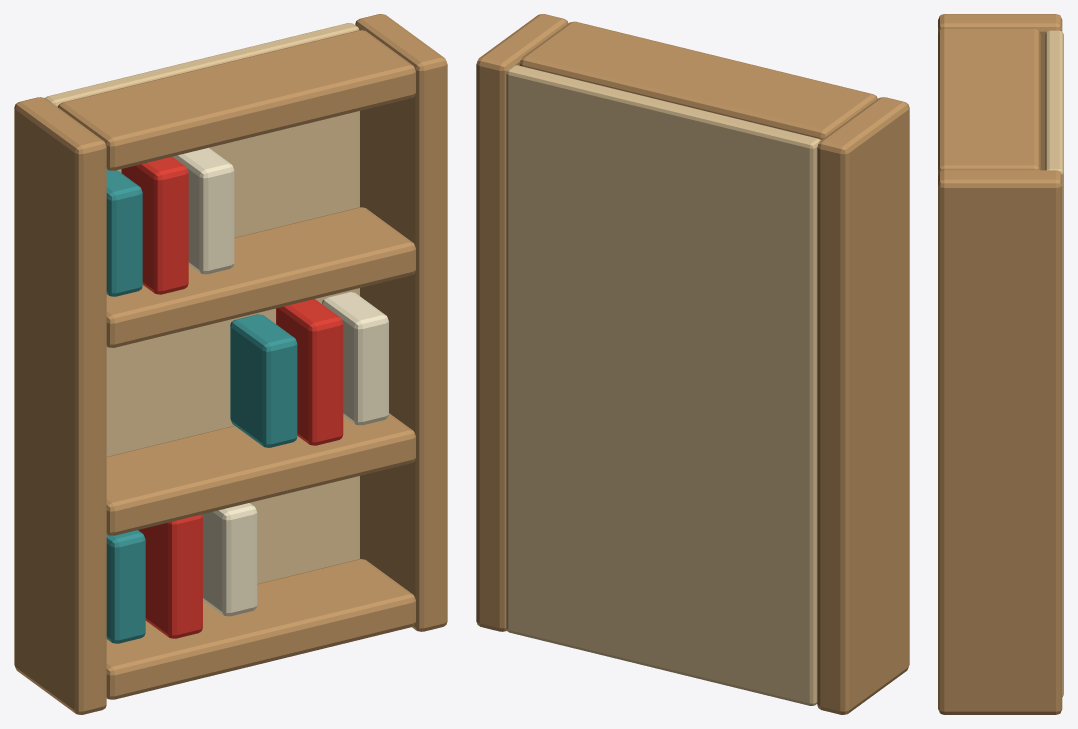
The model's file is S036_open_bookshelf.glb.
The picture shows the model from 3 angles, left to right: view 1: azimuth 30°, elevation 25°; view 2: azimuth 150°, elevation 25°; view 3: azimuth 270°, elevation 25°; orthographic projection. The views are drawn at different scales.
Parts seen in each view (by area): view 1: shelf_side, shelf_back, shelf_side.001, shelf_board.003, shelf_board, shelf_board.002, shelf_board.001, fixed_blank_book.003, fixed_blank_book.004, fixed_blank_book.001, fixed_blank_book.007, fixed_blank_book.005 (+4 smaller); view 2: shelf_back, shelf_side, shelf_side.001, shelf_board.003; view 3: shelf_side.001, shelf_board.003, shelf_back, shelf_side.
Boxes of the visible parts, x1=… form: shelf_side: x1=14, y1=97, x2=106, y2=714; shelf_back: x1=45, y1=23, x2=359, y2=583; shelf_side.001: x1=355, y1=14, x2=447, y2=631; shelf_board.003: x1=58, y1=30, x2=415, y2=170; shelf_board: x1=106, y1=559, x2=415, y2=699; shelf_board.002: x1=106, y1=207, x2=415, y2=347; shelf_board.001: x1=106, y1=413, x2=415, y2=535; fixed_blank_book.003: x1=230, y1=314, x2=297, y2=447; fixed_blank_book.004: x1=276, y1=299, x2=343, y2=445; fixed_blank_book.001: x1=138, y1=514, x2=202, y2=638; fixed_blank_book.007: x1=121, y1=157, x2=188, y2=294; fixed_blank_book.005: x1=322, y1=292, x2=388, y2=425; shelf_back: x1=506, y1=65, x2=820, y2=705; shelf_side: x1=817, y1=97, x2=909, y2=714; shelf_side.001: x1=476, y1=14, x2=568, y2=631; shelf_board.003: x1=519, y1=21, x2=877, y2=139; shelf_side.001: x1=938, y1=170, x2=1062, y2=714; shelf_board.003: x1=938, y1=28, x2=1040, y2=175; shelf_back: x1=1045, y1=30, x2=1063, y2=696; shelf_side: x1=938, y1=14, x2=1062, y2=170.
Size of the model in its own units: 1.3 by 1.9 by 0.405.
